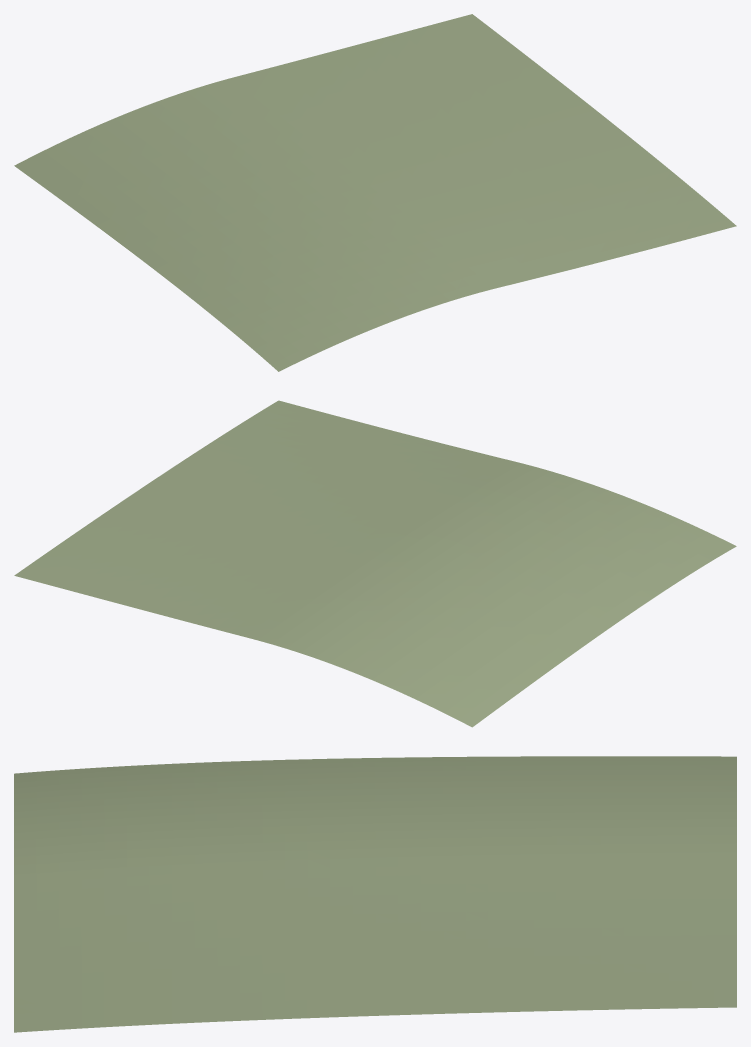
File: expanse-26-8.glb
3 views of the same model, one above another, from view 1: azimuth 30°, elevation 25°; view 2: azimuth 150°, elevation 25°; view 3: azimuth 270°, elevation 25° (orthographic). The views are drawn at different scales.
Parts seen in each view (by area): view 1: expanse-26-8; view 2: expanse-26-8; view 3: expanse-26-8.
Part boxes in pixels (box(x1,y1,x2,y2)): expanse-26-8: box(14, 14, 736, 371); expanse-26-8: box(14, 400, 736, 727); expanse-26-8: box(14, 756, 736, 1032).
Size of the model in its own units: 256 by 27.98 by 256.
